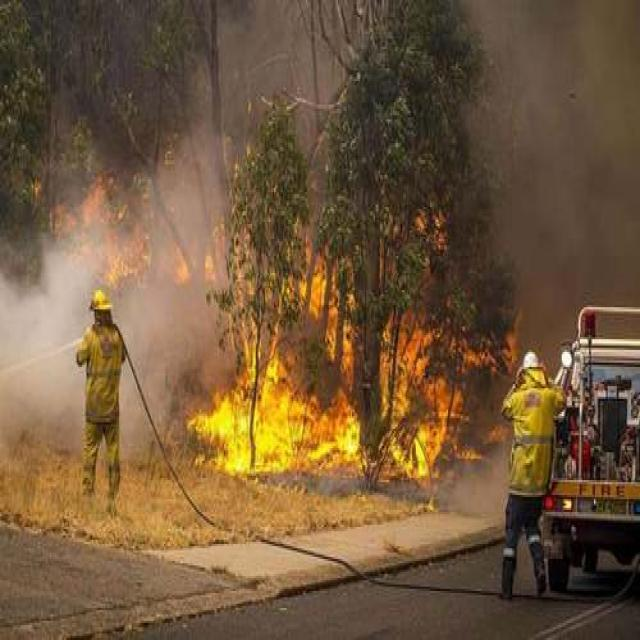Fire: (176, 257, 477, 492), (102, 240, 158, 292), (68, 179, 110, 233), (199, 239, 224, 282), (170, 244, 192, 287)
Smoke: (0, 136, 242, 458)
